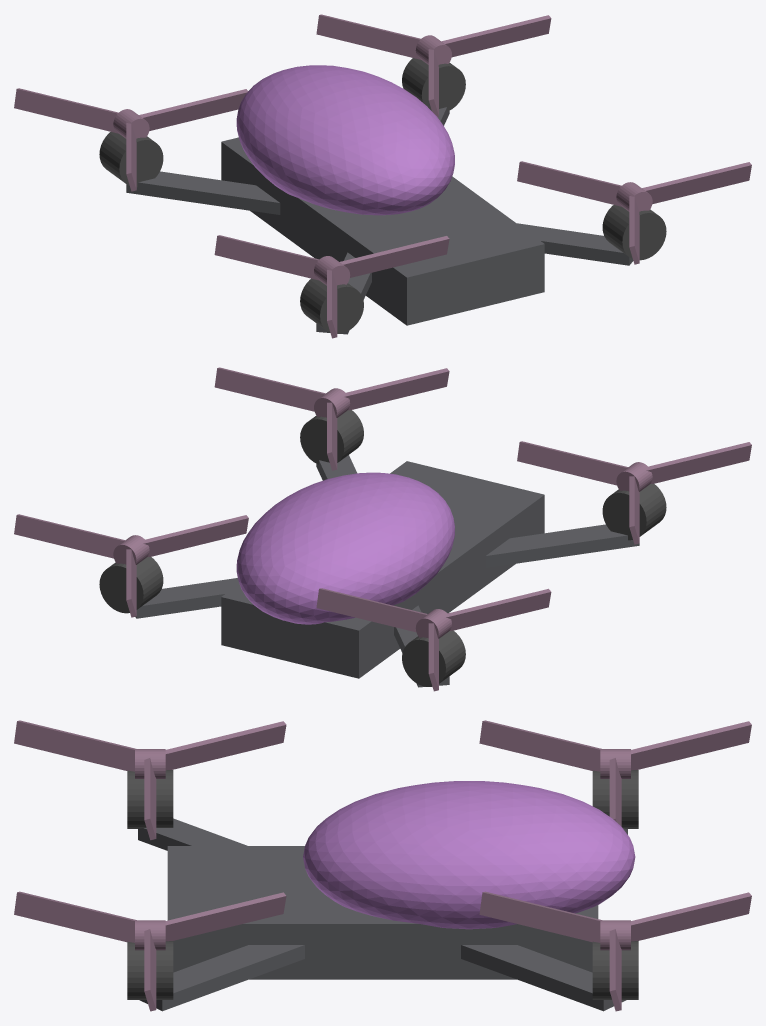
Rendered from MoonGoat.glb.
3 views of the same model, one above another, from view 1: azimuth 30°, elevation 25°; view 2: azimuth 150°, elevation 25°; view 3: azimuth 270°, elevation 25° (orthographic). The views are drawn at different scales.
Parts seen in each view (by area): view 1: canopy, frame_body, prop_2, prop_0, prop_1, prop_3, arm_3, arm_0, motor_0, motor_2, motor_3, motor_1; view 2: canopy, frame_body, prop_0, prop_2, prop_1, prop_3, arm_2, arm_1, motor_1, motor_3, motor_2, motor_0 (+1 smaller); view 3: canopy, frame_body, prop_0, prop_1, prop_2, prop_3, arm_1, arm_0, motor_1, motor_0, motor_2, motor_3 (+1 smaller).
Part boxes in pixels (x1,y1,x2,y2): canopy: (236, 65, 454, 215); frame_body: (221, 137, 544, 325); prop_2: (214, 235, 449, 338); prop_0: (517, 161, 751, 264); prop_1: (316, 14, 551, 116); prop_3: (14, 88, 247, 191); arm_3: (126, 171, 280, 214); arm_0: (517, 223, 633, 265); motor_0: (602, 205, 666, 260); motor_2: (300, 278, 363, 333); motor_3: (99, 132, 163, 187); motor_1: (402, 58, 465, 111); canopy: (236, 472, 454, 624); frame_body: (221, 461, 544, 678); prop_0: (214, 367, 449, 470); prop_2: (517, 441, 751, 544); prop_1: (14, 514, 248, 617); prop_3: (316, 588, 551, 691); arm_2: (485, 524, 639, 567); arm_1: (135, 578, 239, 618); motor_1: (99, 557, 163, 613); motor_3: (402, 630, 465, 686); motor_2: (602, 484, 666, 540); motor_0: (300, 410, 363, 464); canopy: (303, 781, 635, 929); frame_body: (167, 846, 598, 979); prop_0: (14, 891, 286, 1011); prop_1: (479, 891, 751, 1011); prop_2: (14, 720, 286, 840); prop_3: (479, 720, 751, 826); arm_1: (461, 945, 626, 1011); arm_0: (139, 945, 304, 1011); motor_1: (592, 941, 638, 999); motor_0: (127, 941, 173, 999); motor_2: (127, 770, 173, 828); motor_3: (592, 770, 638, 828).
Size of the model in its own units: 0.2083 by 0.0516 by 0.2397.
